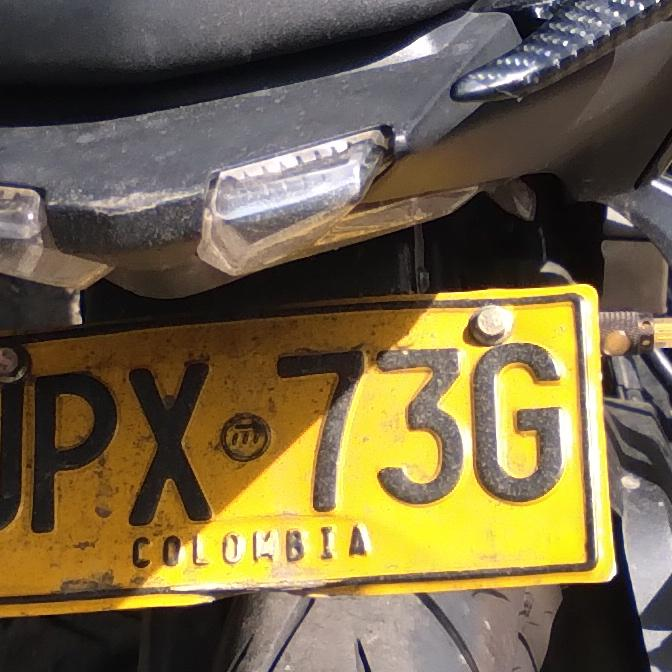plates: (0, 278, 618, 625)
